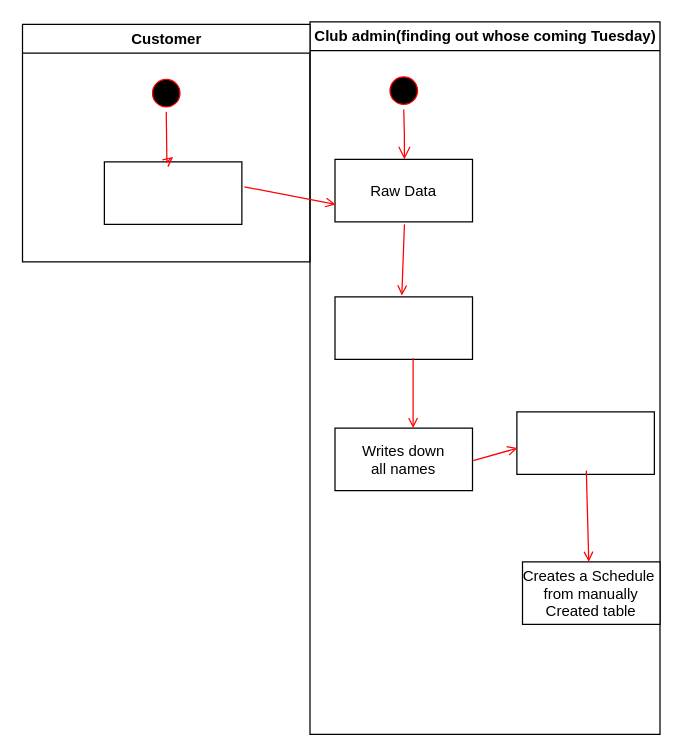
This 681x756 diagram has some shape labels left out. The shapes that lost their labels are listed below. From the top down, each one's centre as x and y in pixels, then its label:
the point at 172,192: Adds Personal Data
the point at 403,327: Adds Tuesday filter
the point at 585,442: Makes a Table With names And age groups
